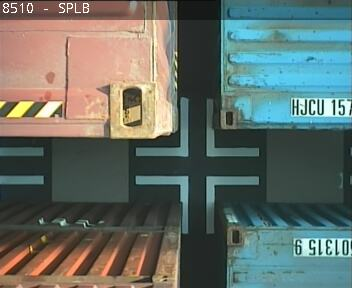groundmarker_1: (134, 174, 258, 234), (135, 97, 259, 157)
